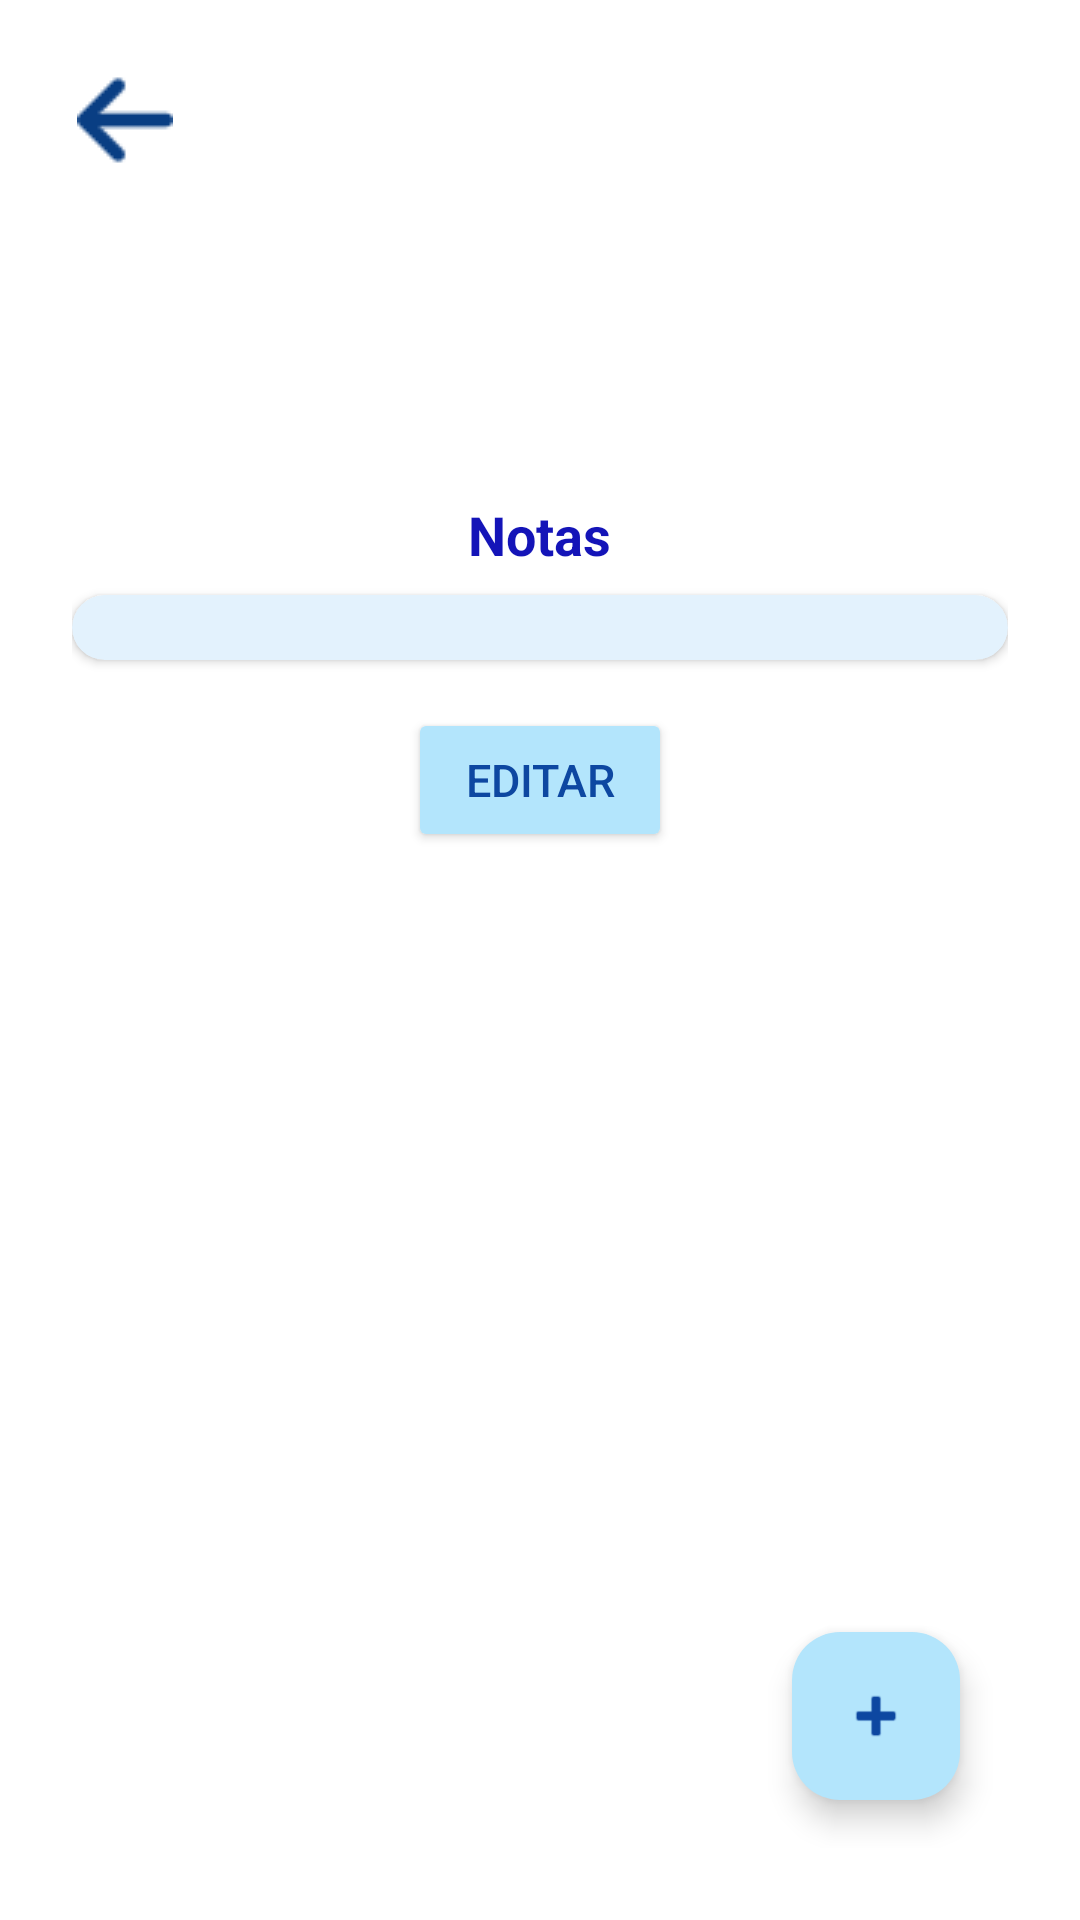

Point at icon controls on the screen. Image size 1080 x 1920, points as (x=x, y=y).
Add note: (x=876, y=1716)
Back: (x=125, y=120)
